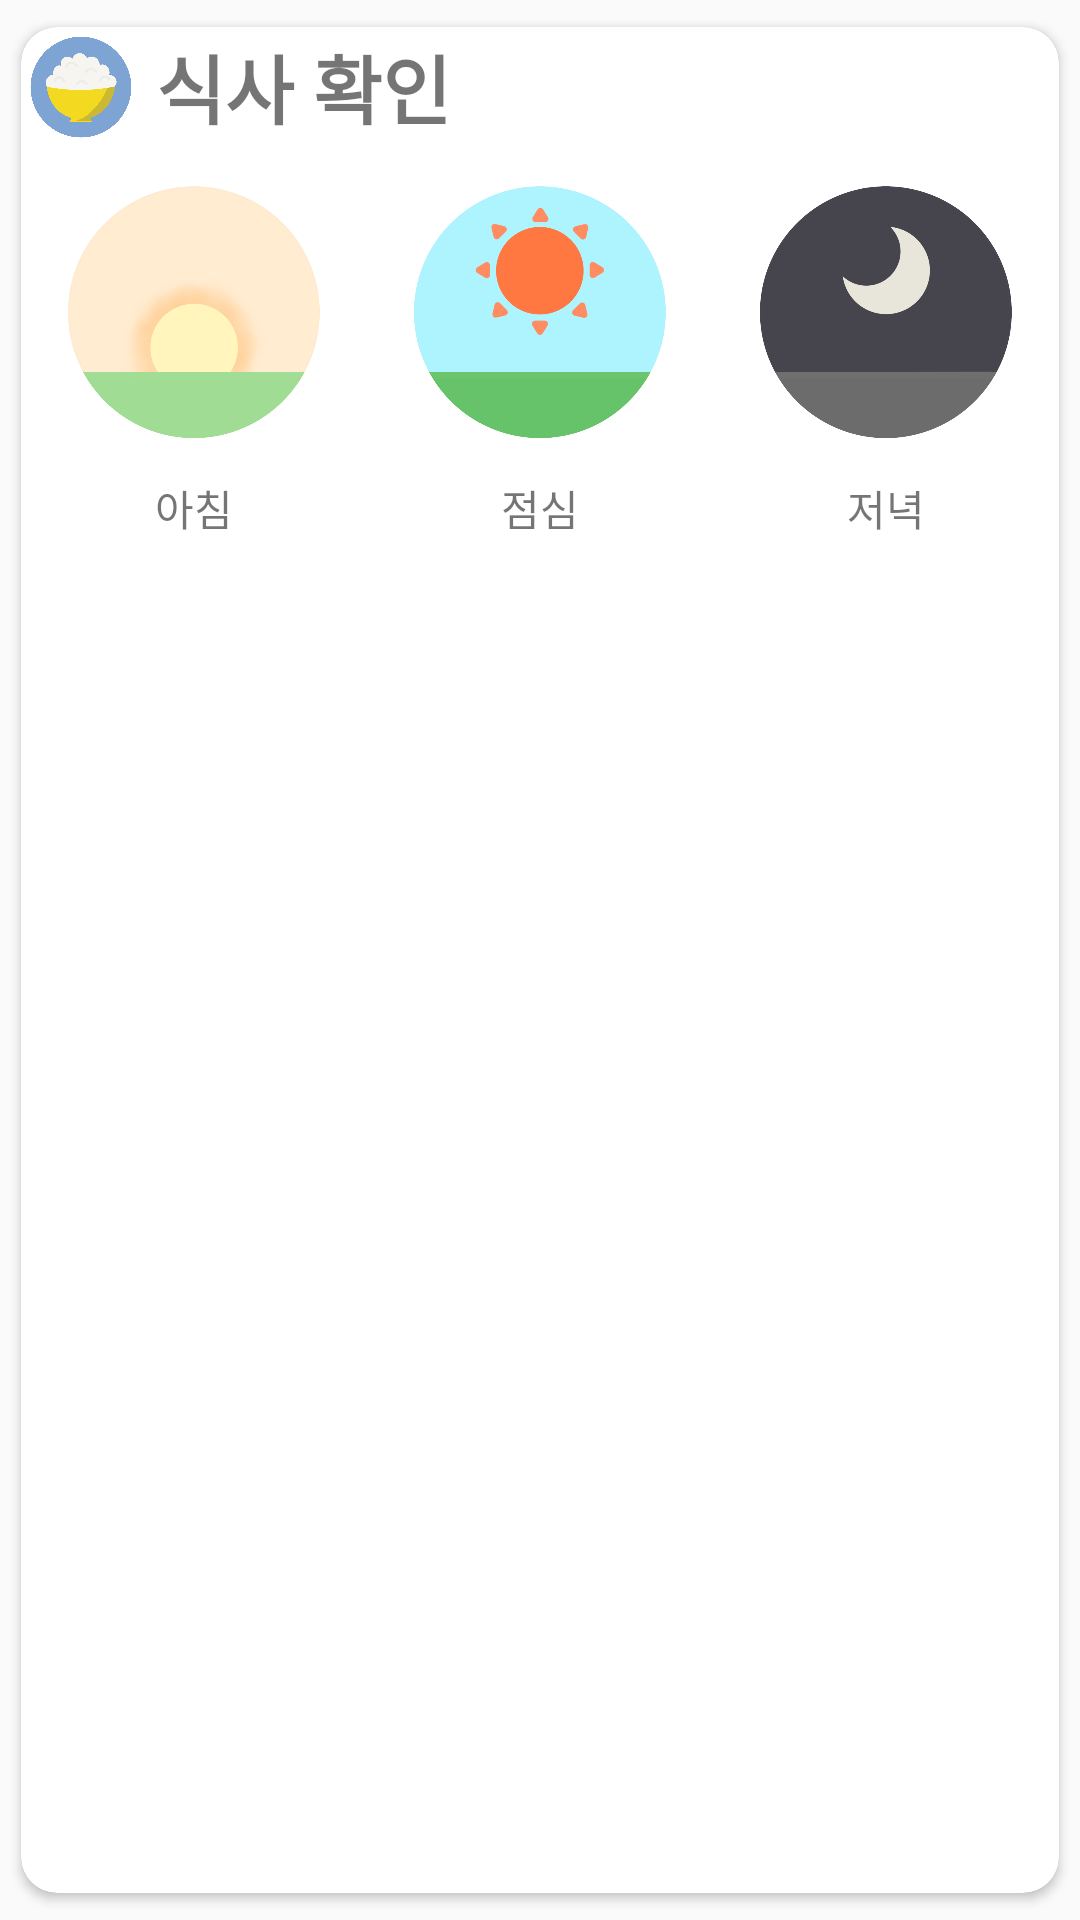

Locate icon controls on the screen. Image size 1080x1920, boxes as (x1, y1, x2, y2).
meal eat: (31, 27, 131, 138)
